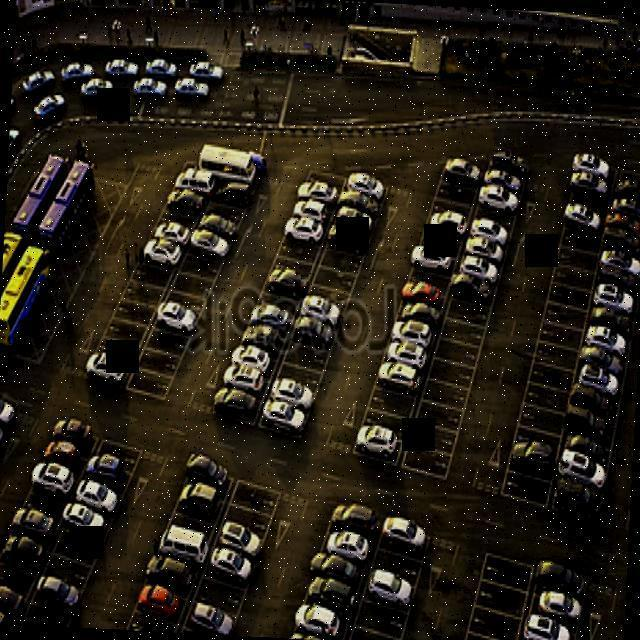space-empty: (462, 589, 528, 640), (480, 544, 539, 597), (475, 572, 533, 617), (193, 573, 249, 618), (159, 502, 215, 547), (498, 466, 556, 509), (371, 545, 429, 588), (363, 380, 416, 427), (426, 348, 478, 395), (355, 598, 413, 640), (220, 500, 274, 545), (438, 309, 494, 352), (441, 295, 498, 334), (92, 429, 146, 470), (54, 524, 105, 567), (274, 362, 332, 399), (512, 399, 567, 438), (162, 268, 219, 305), (233, 472, 283, 514), (434, 329, 485, 370), (313, 255, 361, 297), (302, 275, 353, 314), (19, 483, 67, 523), (404, 421, 457, 457), (124, 366, 177, 402), (178, 251, 230, 287), (285, 338, 334, 376), (40, 557, 89, 595), (145, 325, 194, 363), (320, 239, 366, 279), (122, 600, 177, 633), (114, 280, 167, 314), (158, 285, 211, 319), (530, 340, 582, 374), (103, 316, 147, 356), (113, 294, 157, 334), (128, 255, 172, 295), (296, 163, 347, 197), (512, 383, 571, 412), (416, 398, 463, 433), (425, 379, 472, 414), (273, 231, 320, 266), (134, 346, 187, 377), (515, 419, 561, 454), (405, 446, 451, 481), (93, 332, 139, 367), (539, 300, 590, 331), (269, 250, 316, 283), (472, 198, 516, 233), (254, 284, 298, 319), (525, 366, 574, 397), (552, 245, 601, 276), (151, 204, 200, 235), (451, 618, 519, 640), (547, 280, 594, 311), (18, 604, 74, 628), (563, 189, 614, 215), (430, 179, 481, 205), (202, 197, 249, 225), (425, 193, 479, 217), (347, 618, 405, 640), (552, 263, 597, 291), (0, 559, 33, 597), (537, 324, 585, 350), (554, 228, 606, 252), (405, 266, 457, 288), (415, 230, 468, 250), (177, 623, 226, 636)
space-occupied: (287, 593, 351, 640), (132, 573, 188, 623), (347, 422, 405, 470), (552, 473, 602, 527), (301, 575, 360, 618), (155, 522, 207, 569), (530, 586, 584, 631), (324, 496, 378, 541), (308, 544, 365, 585), (379, 516, 433, 559), (207, 543, 258, 588), (171, 478, 222, 523), (142, 549, 195, 592), (533, 555, 587, 596), (373, 353, 427, 394), (80, 350, 134, 391), (296, 292, 346, 336), (215, 515, 266, 558), (387, 310, 440, 351), (210, 385, 263, 426), (31, 573, 84, 614), (324, 521, 379, 560), (259, 397, 307, 441), (324, 219, 372, 263), (398, 271, 451, 310), (289, 313, 337, 355), (187, 597, 238, 636), (239, 320, 290, 359), (245, 299, 296, 338), (362, 571, 417, 607), (392, 297, 450, 331), (265, 379, 323, 413), (2, 531, 50, 571), (31, 458, 79, 498), (405, 240, 458, 276), (182, 449, 235, 485), (59, 505, 112, 541), (502, 440, 561, 472), (51, 414, 100, 452), (13, 503, 59, 543), (382, 333, 433, 369), (335, 185, 386, 221), (259, 264, 310, 300), (72, 479, 123, 515), (221, 361, 268, 399), (293, 165, 340, 203), (138, 235, 185, 273), (230, 340, 274, 380), (583, 326, 634, 360), (83, 455, 132, 490), (39, 434, 88, 469), (571, 144, 615, 182), (282, 211, 326, 249), (332, 202, 379, 237), (287, 195, 334, 230), (576, 349, 629, 380), (569, 393, 620, 424), (152, 305, 203, 336), (277, 617, 345, 640), (150, 221, 194, 256), (187, 228, 231, 263), (196, 209, 240, 244), (575, 368, 624, 399), (557, 460, 613, 487), (519, 615, 578, 640), (440, 152, 482, 187), (345, 165, 387, 200), (565, 411, 612, 442), (593, 284, 640, 315), (466, 233, 507, 268), (470, 216, 511, 251), (207, 179, 256, 208), (459, 250, 501, 283), (584, 307, 637, 333), (218, 155, 258, 189), (163, 187, 206, 218), (599, 247, 640, 278), (595, 267, 640, 295), (172, 171, 214, 201), (559, 206, 607, 232), (424, 211, 471, 237), (0, 578, 26, 625), (482, 164, 525, 192), (479, 183, 519, 213), (566, 173, 615, 197), (451, 271, 490, 301), (489, 147, 529, 175), (182, 154, 221, 182), (604, 223, 640, 253), (563, 438, 609, 461), (107, 617, 169, 633), (605, 210, 640, 238), (610, 169, 640, 199), (610, 191, 640, 218), (0, 391, 22, 423), (0, 414, 8, 455), (0, 600, 12, 624)
